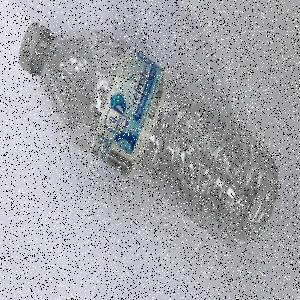Plastic-bottle: (19, 21, 279, 249)
